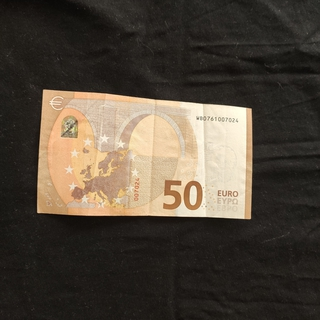50EUROBack: (35, 88, 253, 220)
